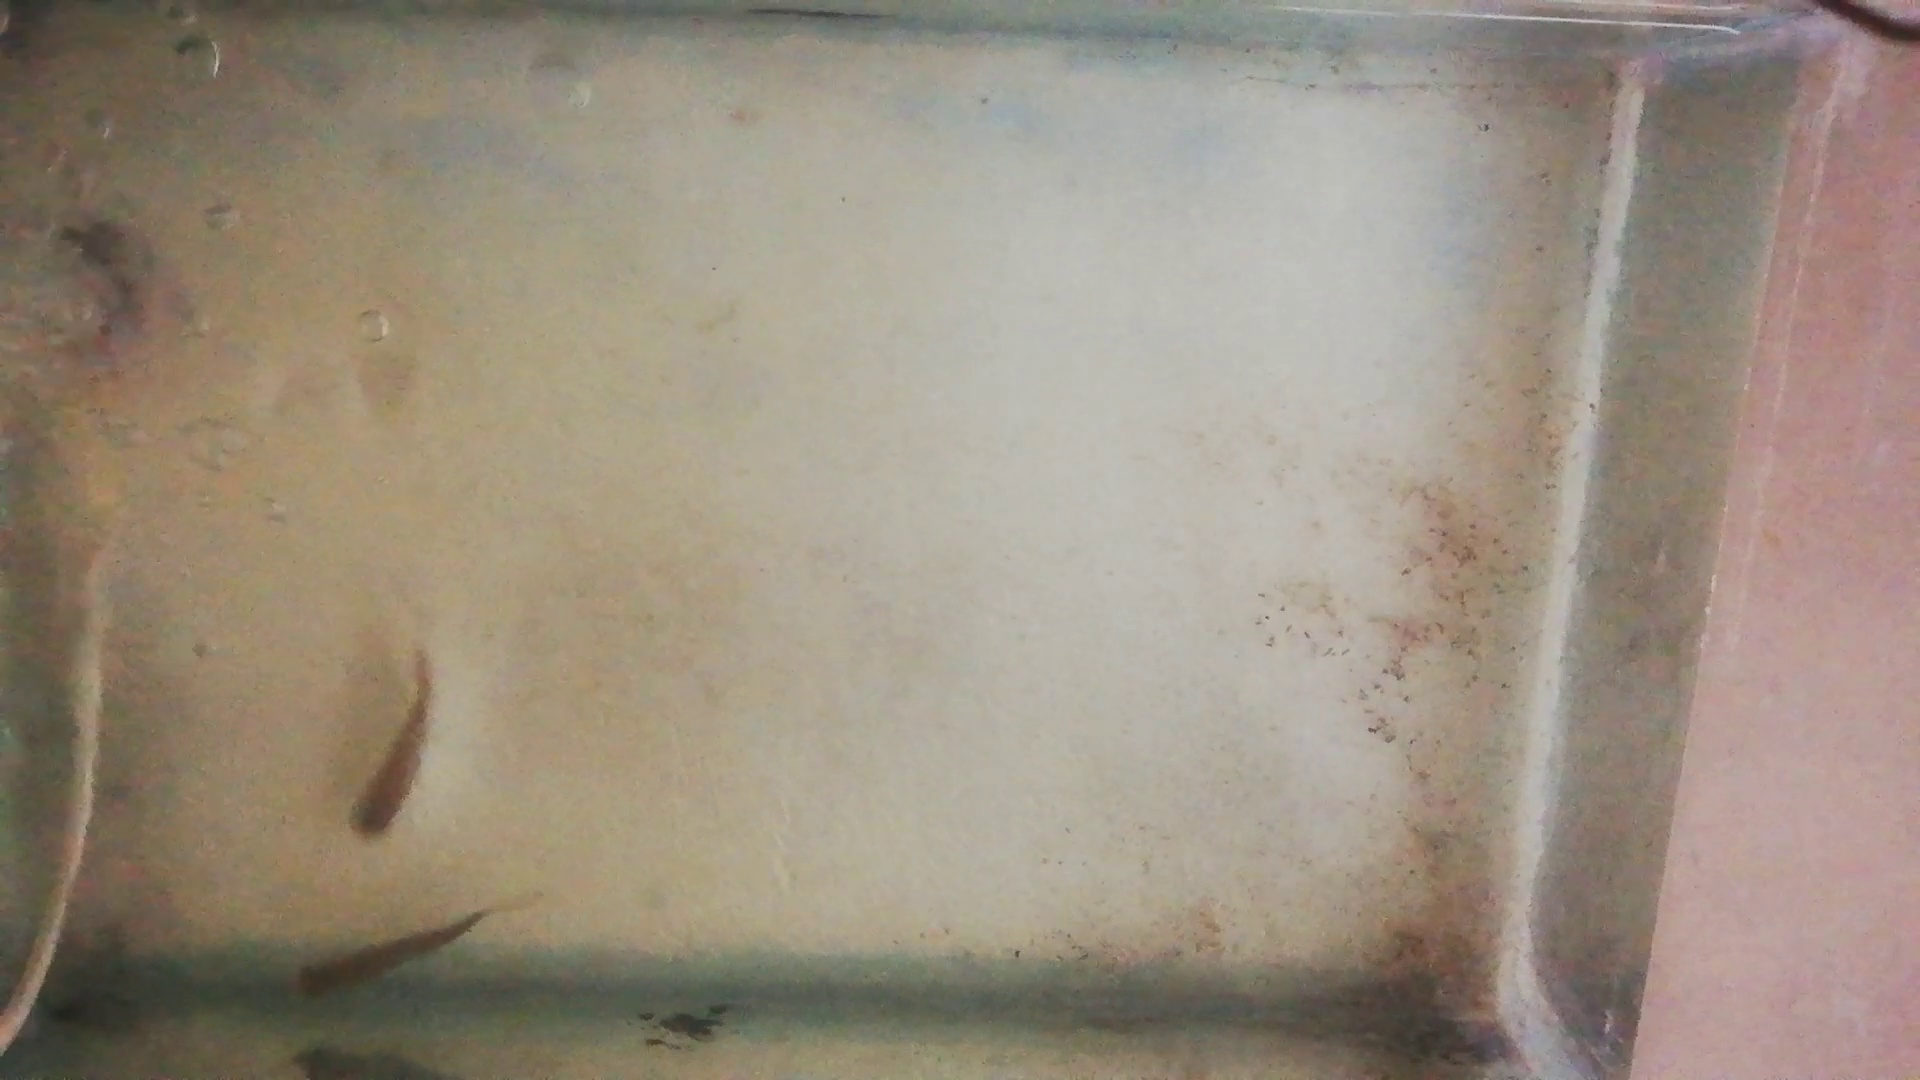fish: (293, 910, 480, 1005), (345, 647, 436, 841)
